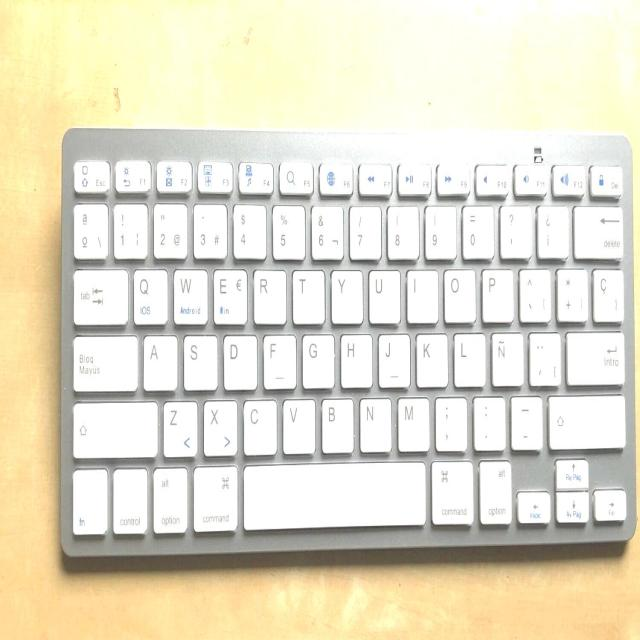0: (460, 200, 493, 258)
1: (111, 198, 147, 258)
2: (151, 199, 187, 258)
3: (191, 199, 227, 257)
4: (231, 199, 265, 257)
5: (270, 201, 304, 258)
6: (309, 201, 343, 258)
7: (347, 202, 380, 259)
8: (385, 202, 419, 259)
9: (422, 201, 456, 258)
a: (141, 330, 177, 389)
alt-left: (151, 462, 189, 534)
altgr-right: (477, 455, 512, 524)
b: (319, 394, 354, 452)
c: (241, 395, 276, 454)
caret: (518, 269, 555, 328)
comma: (433, 392, 466, 450)
d: (220, 330, 257, 389)
del: (572, 201, 624, 258)
e: (211, 265, 247, 325)
enter: (565, 327, 625, 384)
f: (260, 331, 296, 389)
g: (300, 330, 334, 388)
h: (338, 330, 372, 387)
i: (404, 265, 437, 322)
j: (376, 329, 409, 387)
k: (414, 328, 448, 386)
keyboard: (56, 119, 640, 566)
l: (451, 328, 485, 386)
less: (160, 397, 198, 456)
m: (395, 393, 429, 451)
minus: (508, 392, 542, 450)
n: (357, 393, 391, 451)
o: (441, 265, 475, 322)
p: (480, 264, 514, 322)
plus: (554, 263, 587, 321)
point: (471, 392, 505, 449)
q: (130, 265, 167, 325)
r: (251, 265, 287, 324)
s: (180, 330, 217, 390)
shift-left: (71, 396, 159, 457)
shift-lock: (71, 330, 137, 390)
shift-right: (547, 390, 626, 448)
space: (241, 457, 426, 530)
strg-left: (110, 464, 148, 535)
t: (290, 265, 324, 323)
tab: (70, 265, 128, 325)
u: (366, 264, 400, 323)
v: (280, 394, 315, 453)
w: (171, 263, 208, 324)
x: (201, 396, 237, 456)
y: (329, 265, 362, 324)
